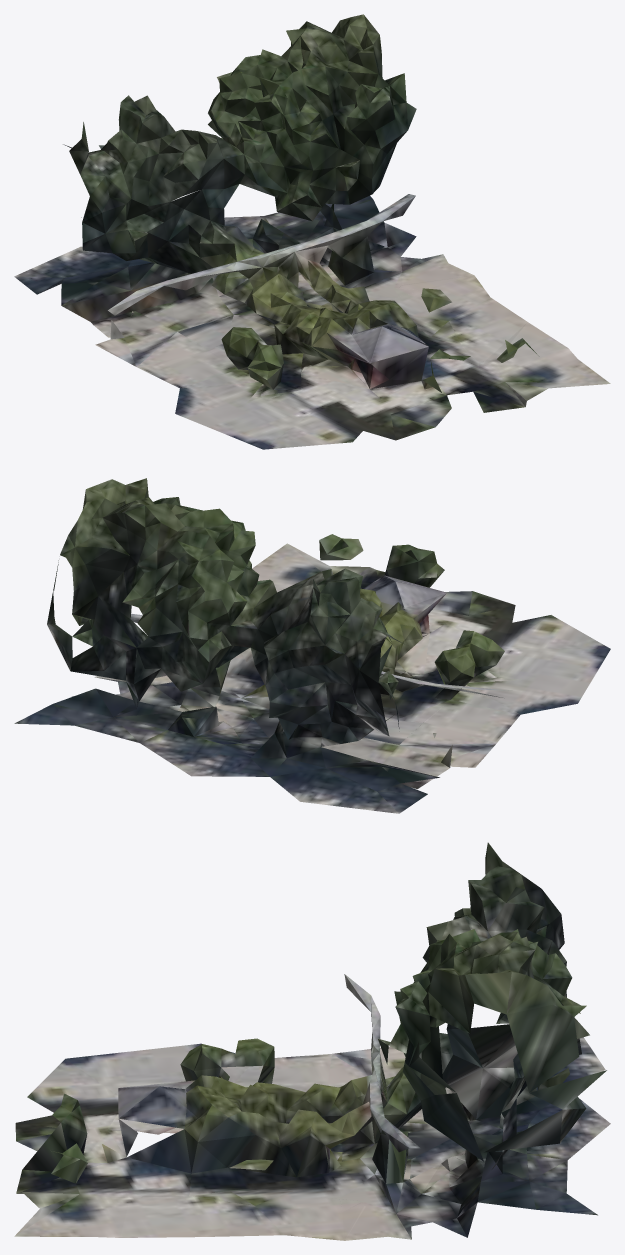
Rendered from Tile_+006_+002_L17_00.glb.
The picture shows the model from 3 angles, top to bottom: view 1: azimuth 30°, elevation 25°; view 2: azimuth 150°, elevation 25°; view 3: azimuth 270°, elevation 25°; orthographic projection. The views are drawn at different scales.
Bounding box in the file's own units: 48.66 × 28.23 × 59.96.
1 material, 1 textured.
